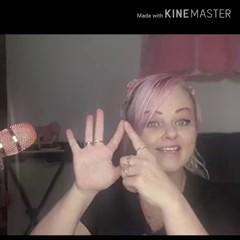E: (60, 107, 180, 202)
